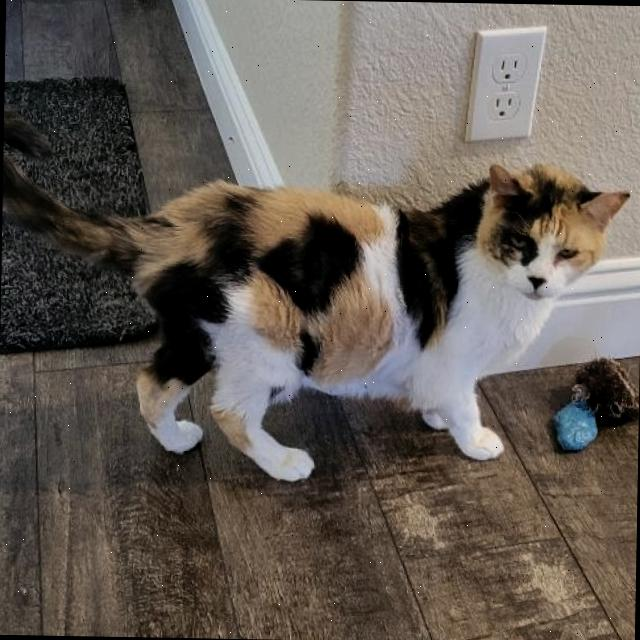calico_cat: (458, 152, 638, 317)
